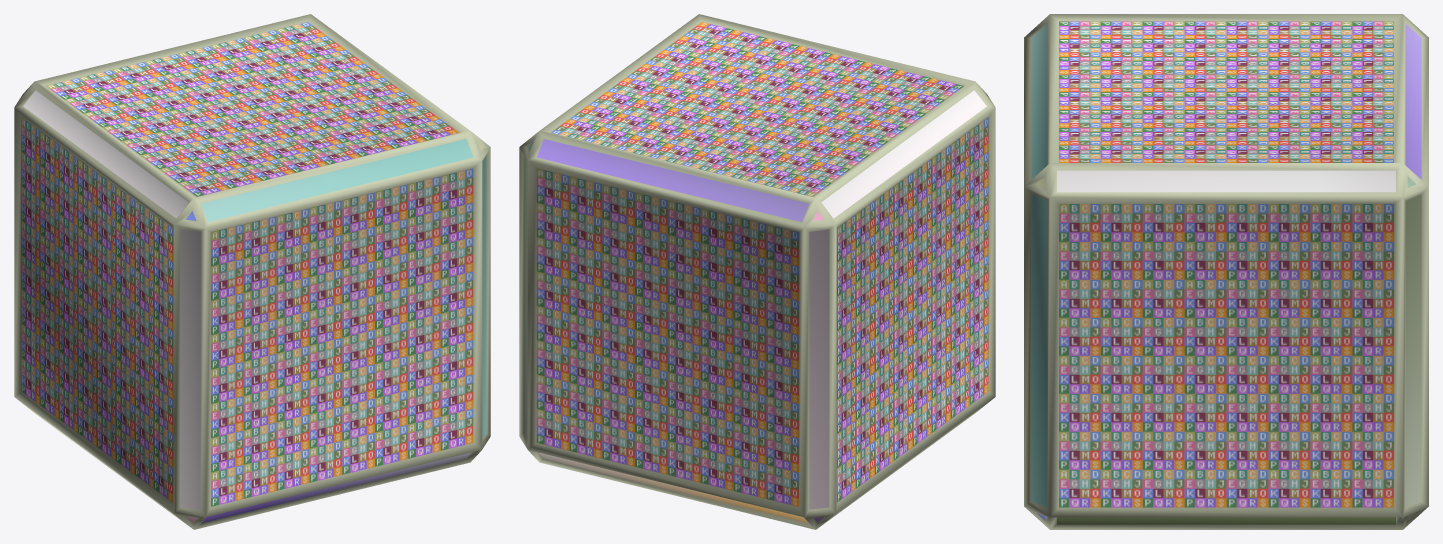
The picture shows the model from 3 angles, left to right: view 1: azimuth 30°, elevation 25°; view 2: azimuth 150°, elevation 25°; view 3: azimuth 270°, elevation 25°; orthographic projection. The views are drawn at different scales.
Visible parts, largest first — view 1: cube1_cube1_auv, cube1_default, cube1_default2; view 2: cube1_cube1_auv, cube1_default, cube1_default2; view 3: cube1_cube1_auv, cube1_default2, cube1_default.
Boxes of the visible parts, bbox=[...] form: cube1_cube1_auv: bbox=[21, 22, 486, 523]; cube1_default: bbox=[14, 14, 490, 529]; cube1_default2: bbox=[14, 81, 490, 529]; cube1_cube1_auv: bbox=[523, 22, 988, 523]; cube1_default: bbox=[519, 14, 995, 529]; cube1_default2: bbox=[519, 81, 995, 529]; cube1_cube1_auv: bbox=[1031, 21, 1421, 524]; cube1_default2: bbox=[1024, 14, 1428, 529]; cube1_default: bbox=[1024, 14, 1428, 529].
Size of the model in its own units: 0.2 by 0.2 by 0.2.
3 materials, 1 textured.
